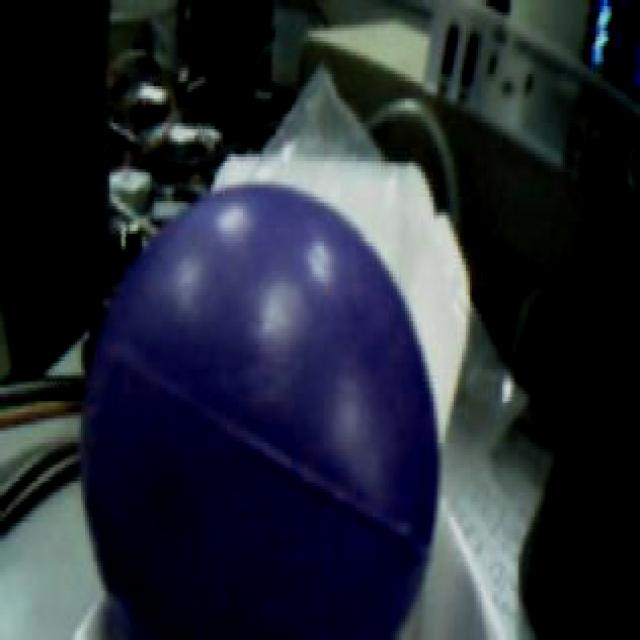BallPurple: (80, 181, 437, 640)
